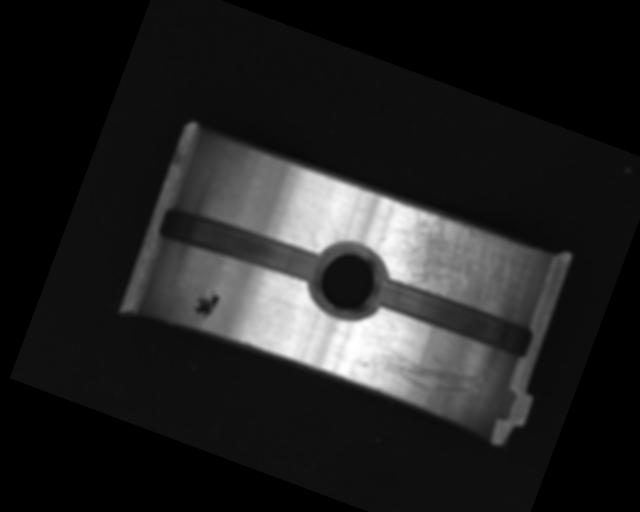blot: (188, 284, 222, 323)
gap: (151, 197, 327, 295), (371, 273, 536, 362)
hole: (303, 236, 395, 324)
nick: (355, 330, 482, 410), (316, 208, 349, 246)
scratch: (374, 198, 546, 326)
